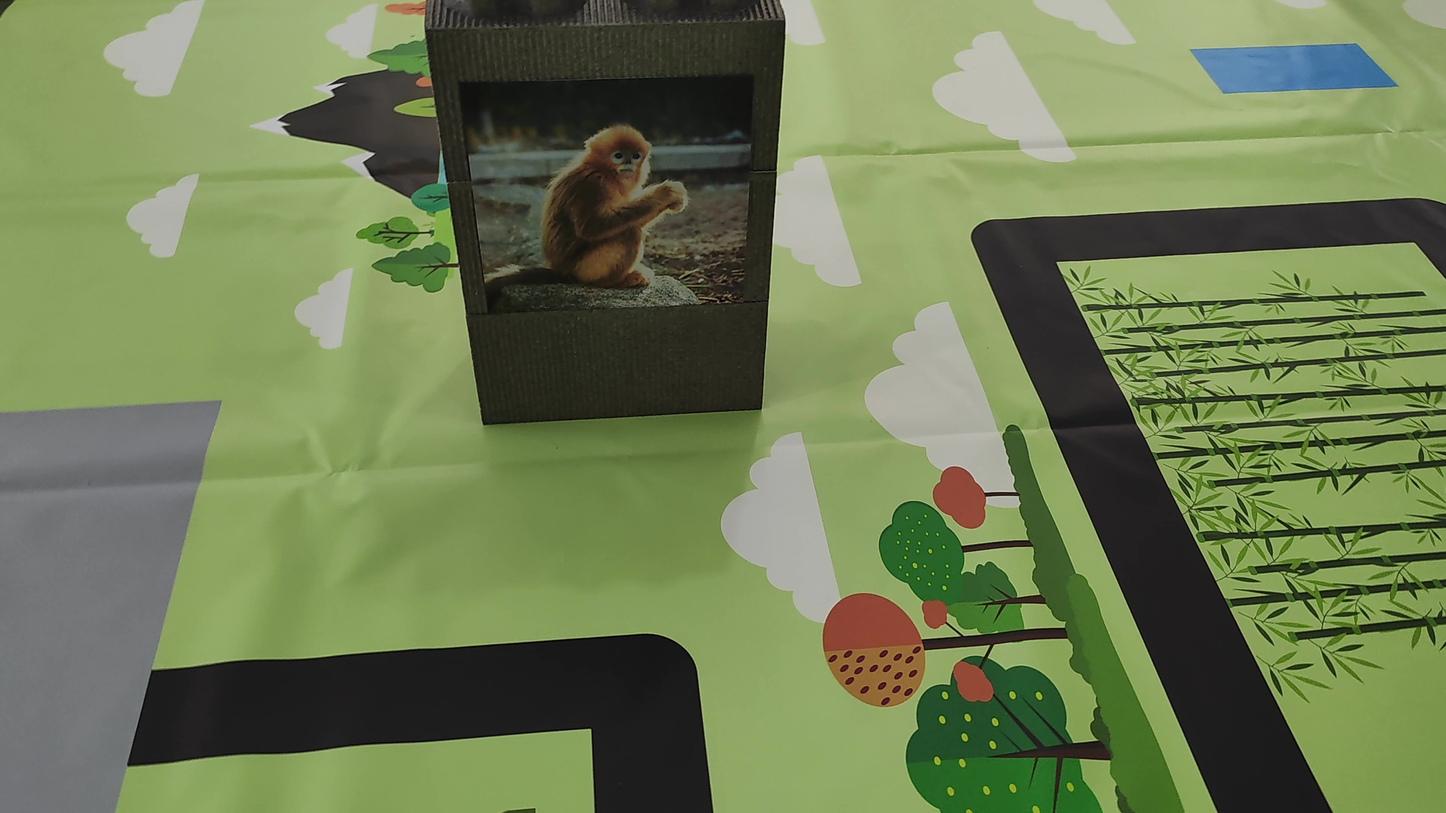monkey: (482, 116, 715, 314)
